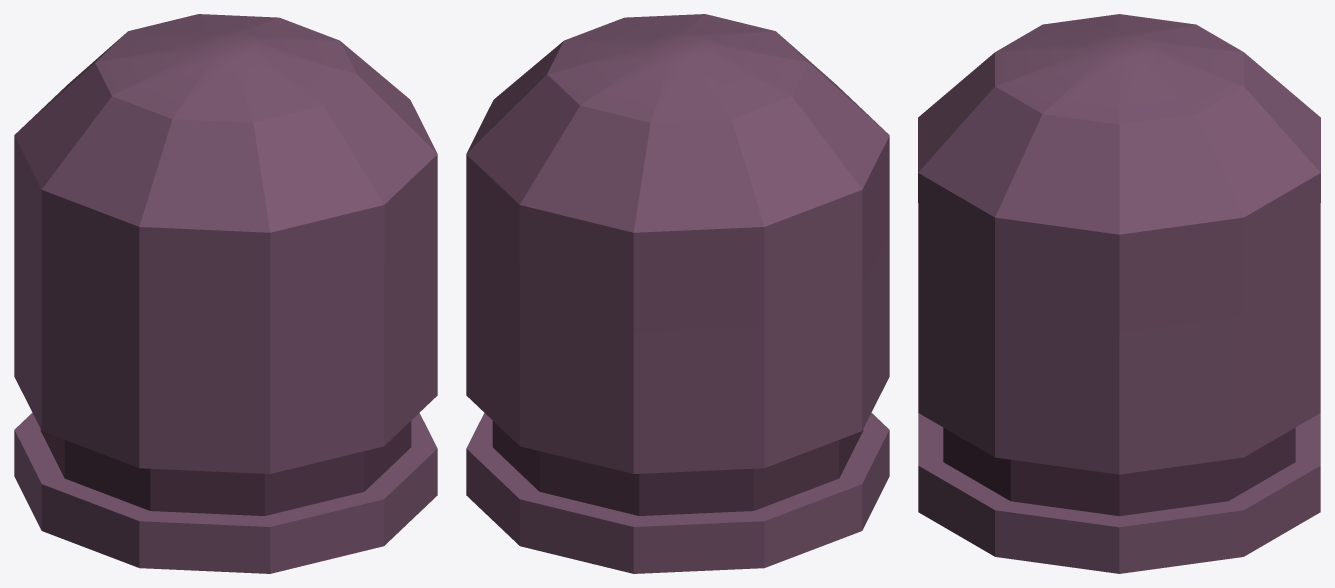
Rendered from Bullet_Bounce.fbx.
3 views of the same model, side by side, from view 1: azimuth 30°, elevation 25°; view 2: azimuth 150°, elevation 25°; view 3: azimuth 270°, elevation 25° (orthographic).
Visible parts, largest first — view 1: Bounce; view 2: Bounce; view 3: Bounce.
Part boxes in pixels (box(x1,y1,x2,y2)): Bounce: box(14, 14, 437, 573); Bounce: box(466, 14, 889, 573); Bounce: box(918, 14, 1320, 573).
Size of the model in its own units: 42.65 by 48.56 by 40.56.
